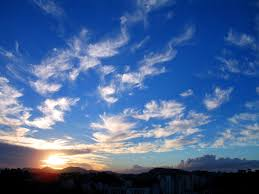mountain: (6, 169, 259, 193)
sky: (1, 2, 258, 169)
